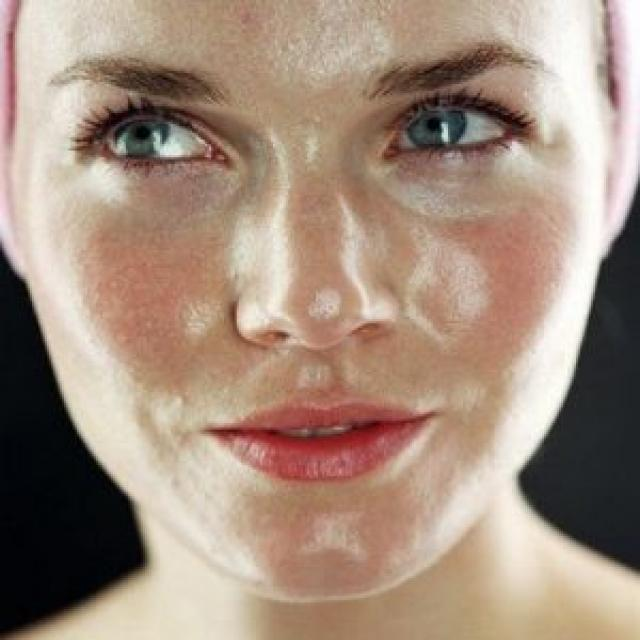Oily-Skin: (140, 273, 252, 356), (308, 5, 410, 79), (410, 258, 498, 340), (295, 508, 386, 581), (291, 267, 381, 334)
